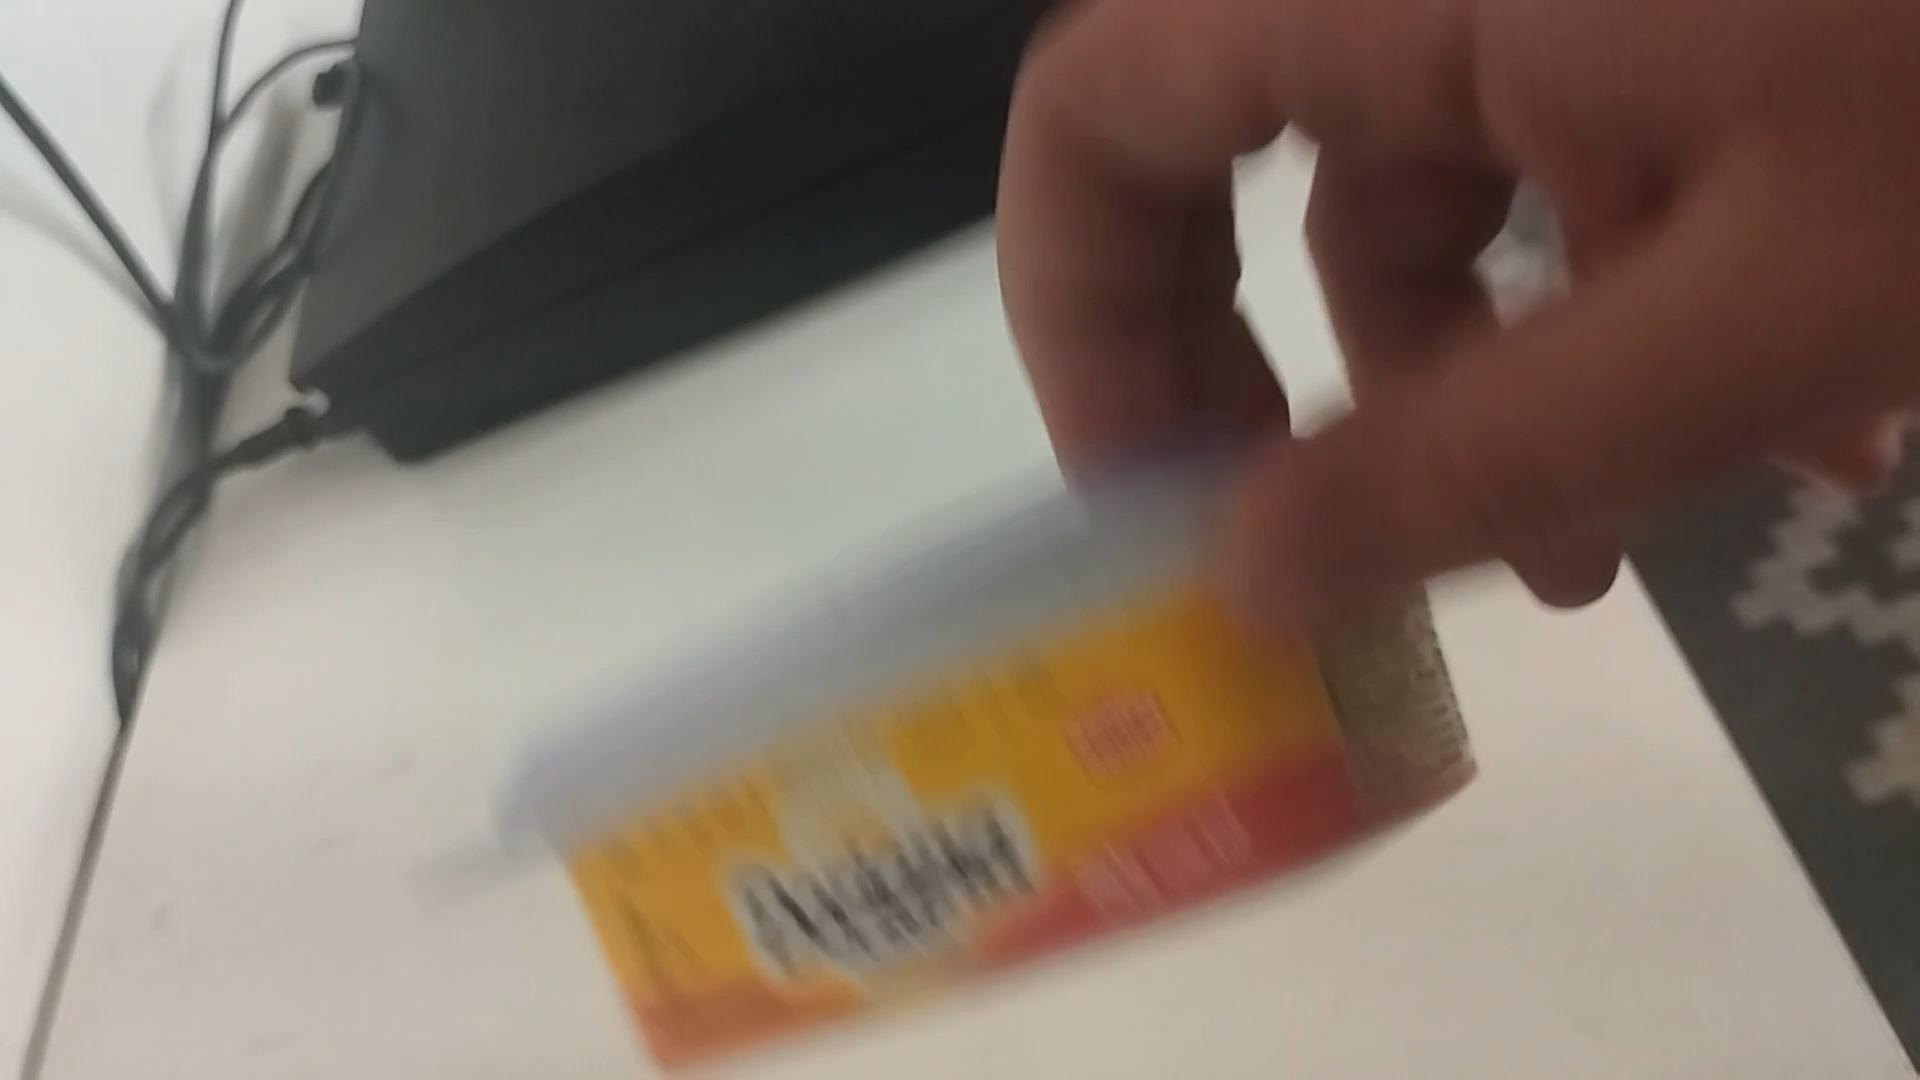butter: (501, 439, 1466, 1079)
